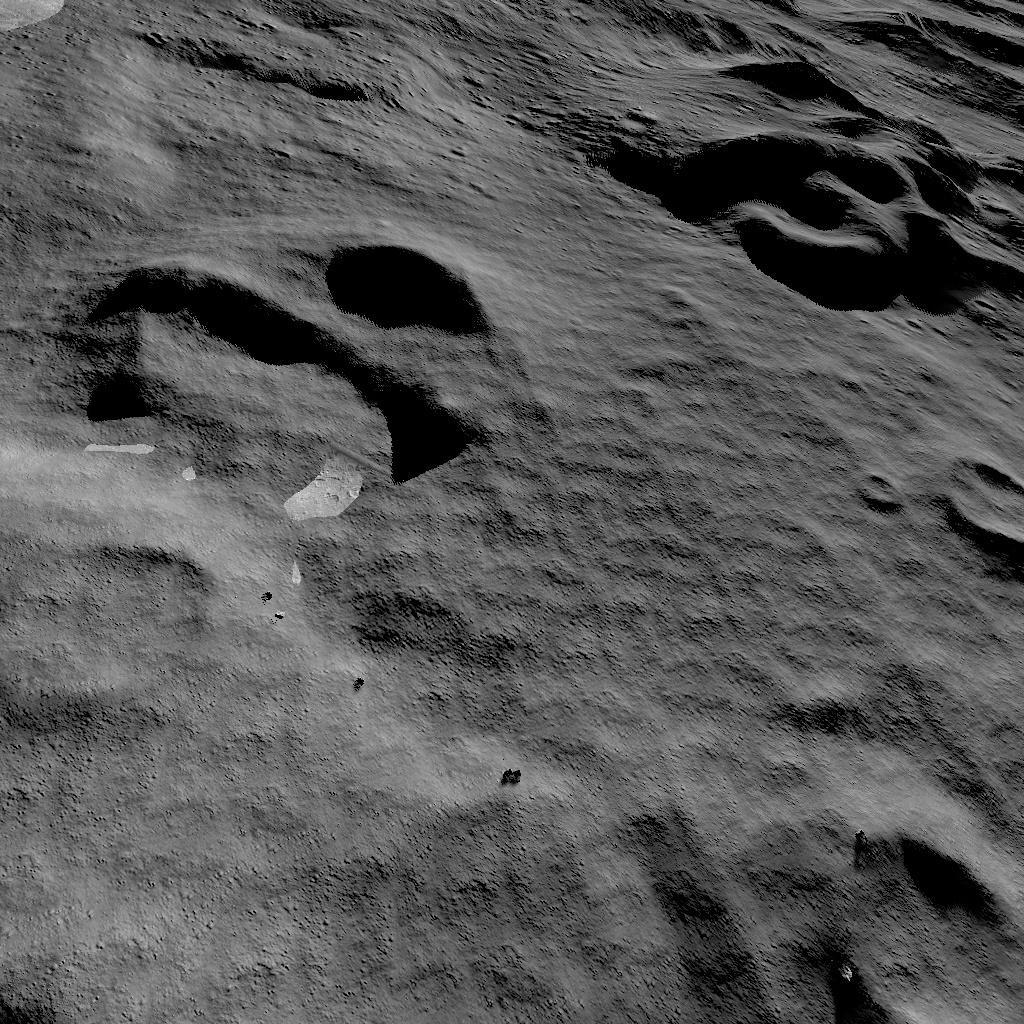Crater: (584, 0, 1024, 302), (32, 201, 491, 484), (776, 768, 1024, 1024), (0, 507, 235, 720), (919, 420, 1024, 560), (0, 946, 115, 1024), (836, 452, 901, 516)
Plan surface: (132, 778, 749, 1024), (526, 318, 811, 746), (0, 0, 571, 162)
